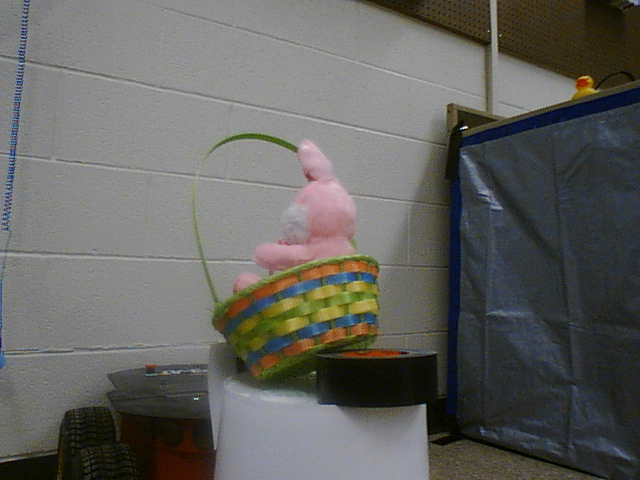bunny: (178, 122, 393, 387)
